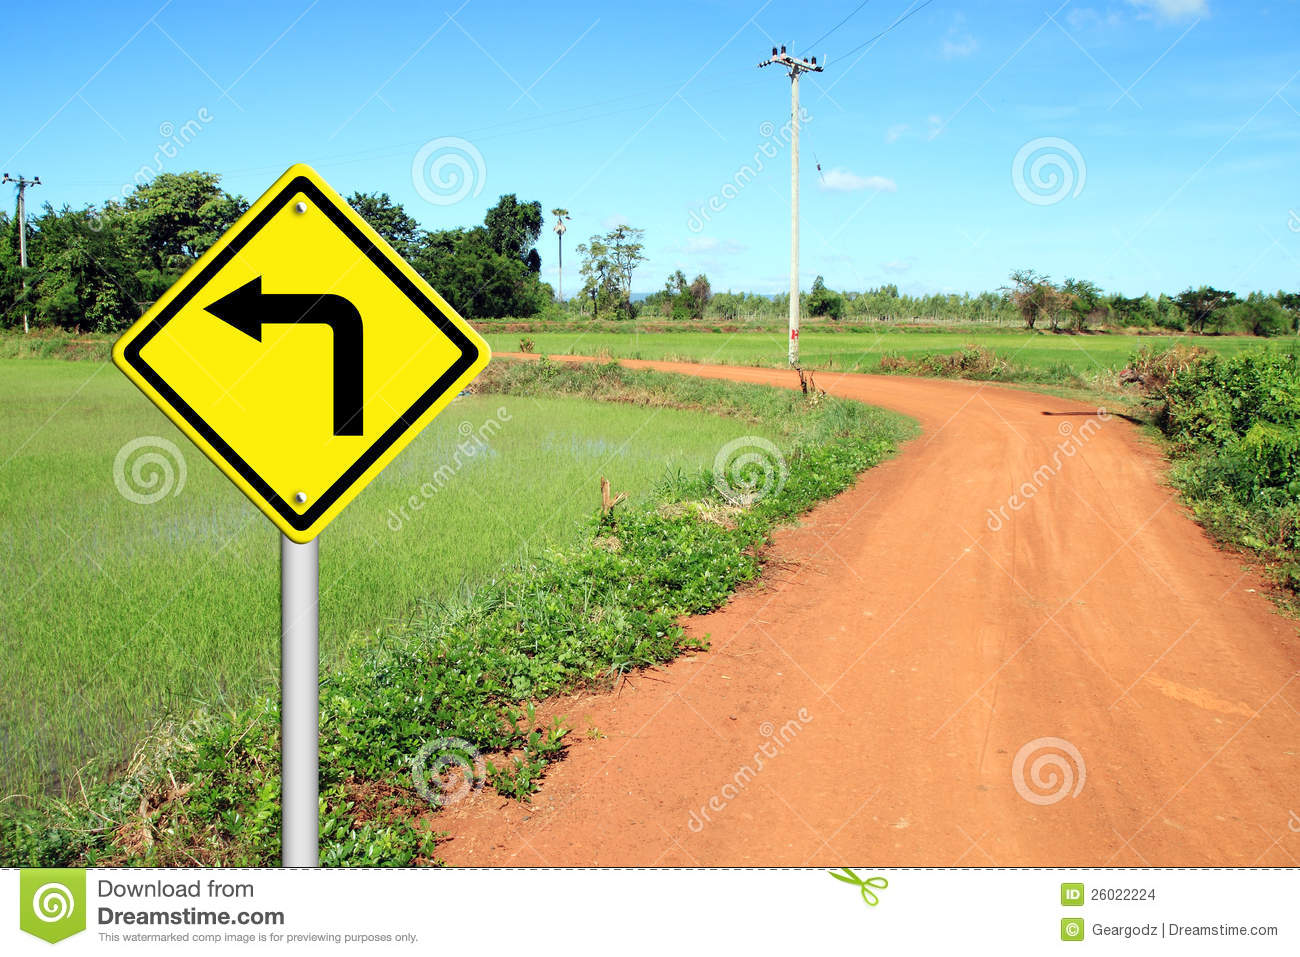left: (107, 161, 497, 550)
